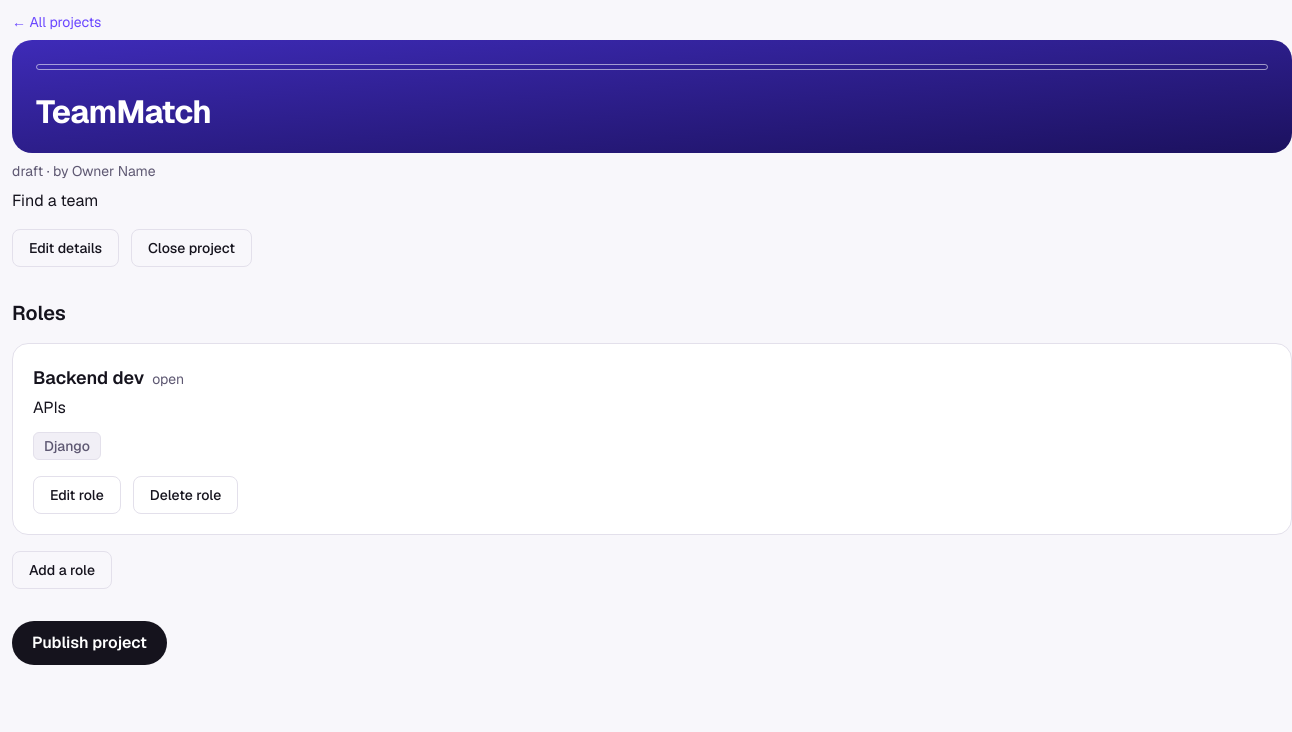
Test: publishes a draft project
Click the button "Publish project" at (90,643), box [12, 621, 167, 665]
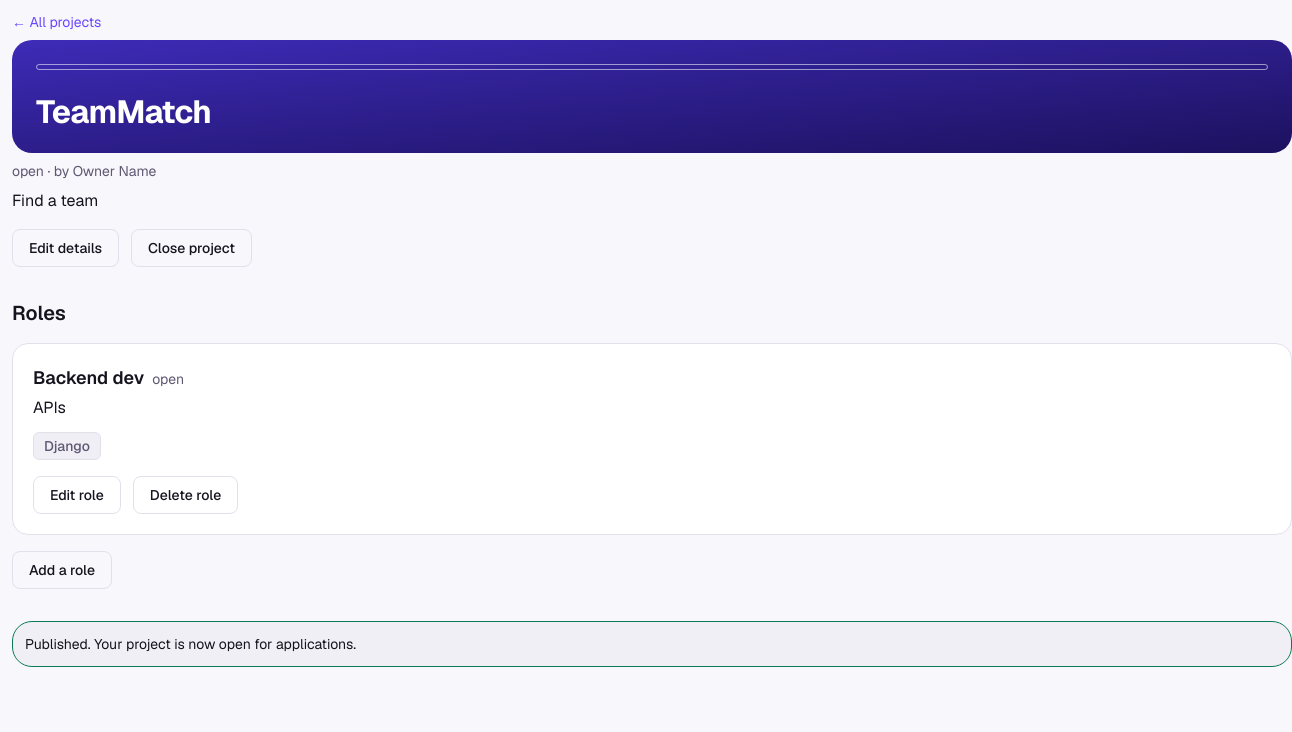
Now the text "Published. Your project is now open for applications." is shown, box [12, 621, 1291, 667]
Now the button "Publish project" is gone
